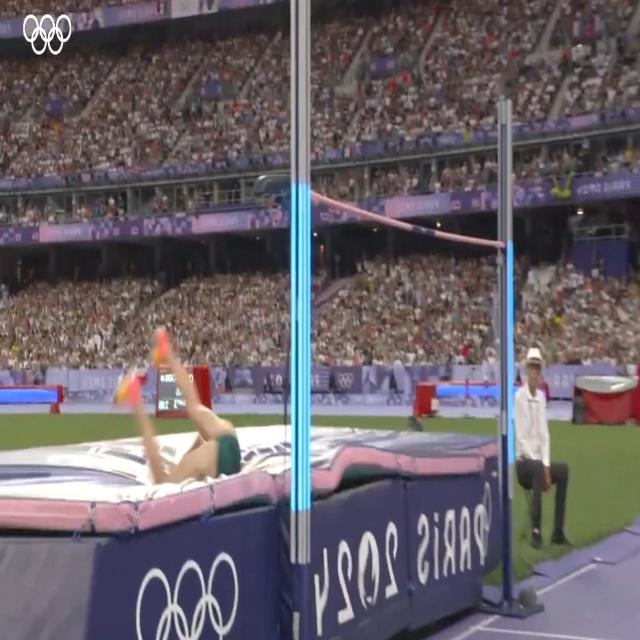land: (117, 328, 253, 484)
